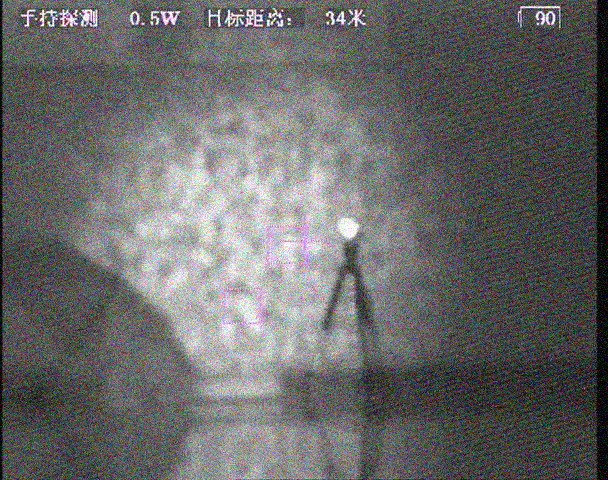my: (335, 215, 360, 240)
